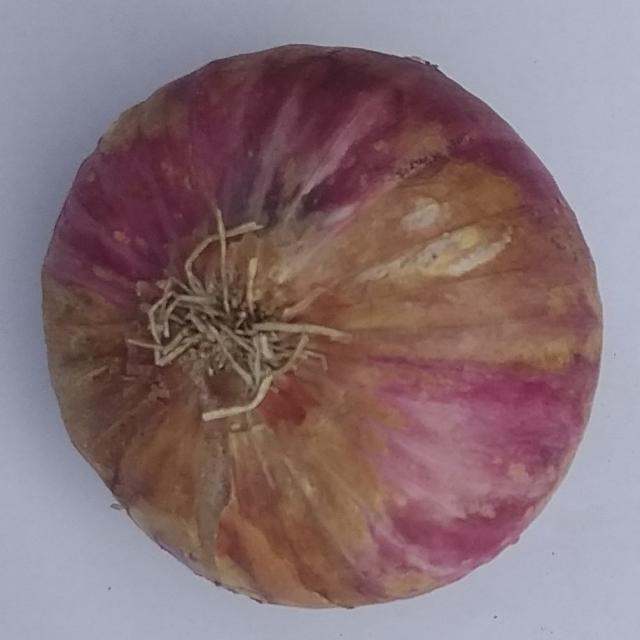onion: (39, 43, 606, 612)
